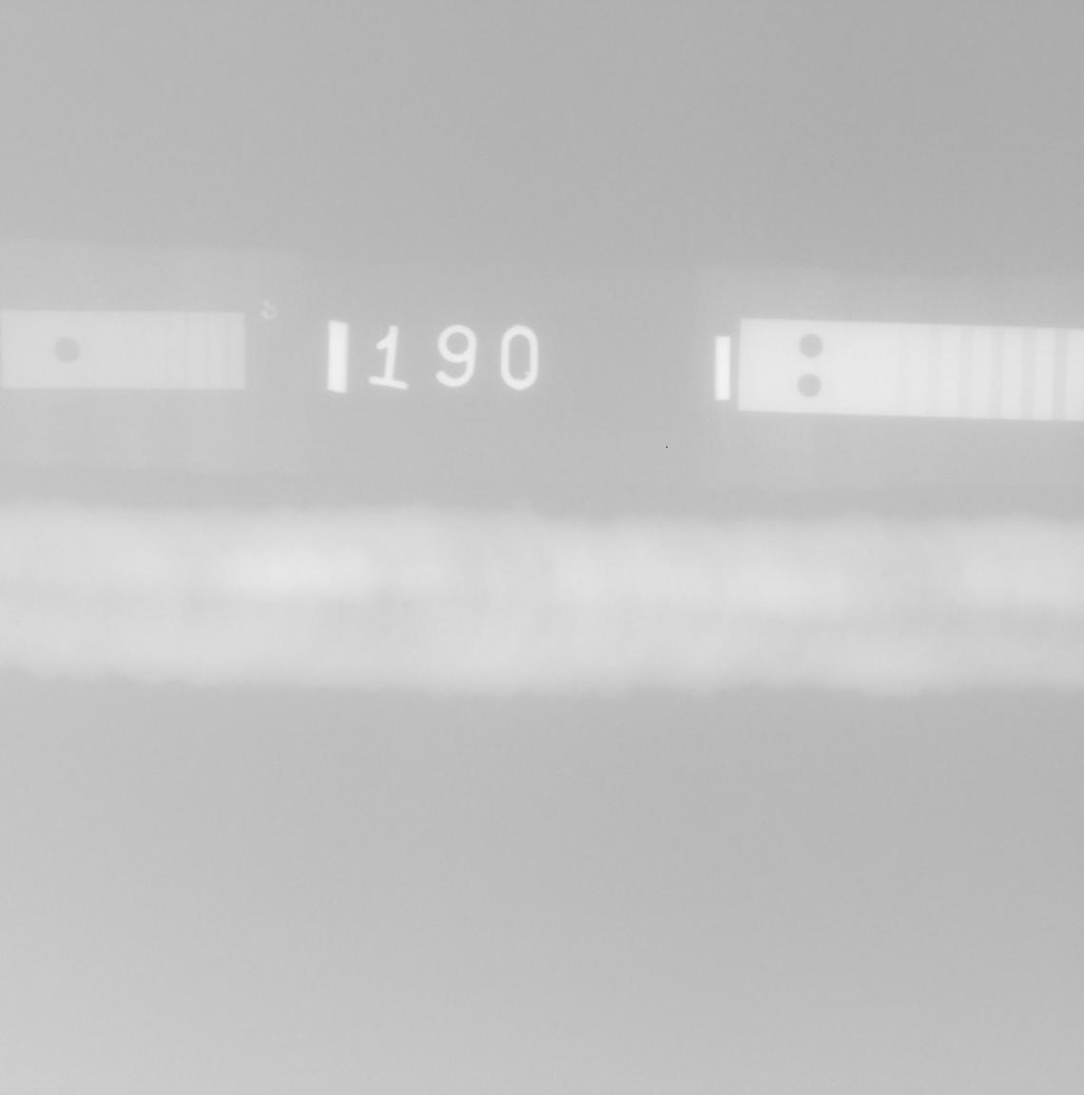Inclusion: (716, 561, 720, 568), (861, 571, 867, 575), (864, 567, 869, 569)
Pore/Porosity: (926, 531, 934, 535), (403, 602, 409, 607), (379, 589, 386, 593), (882, 573, 888, 577), (950, 600, 954, 604), (14, 621, 19, 624)
